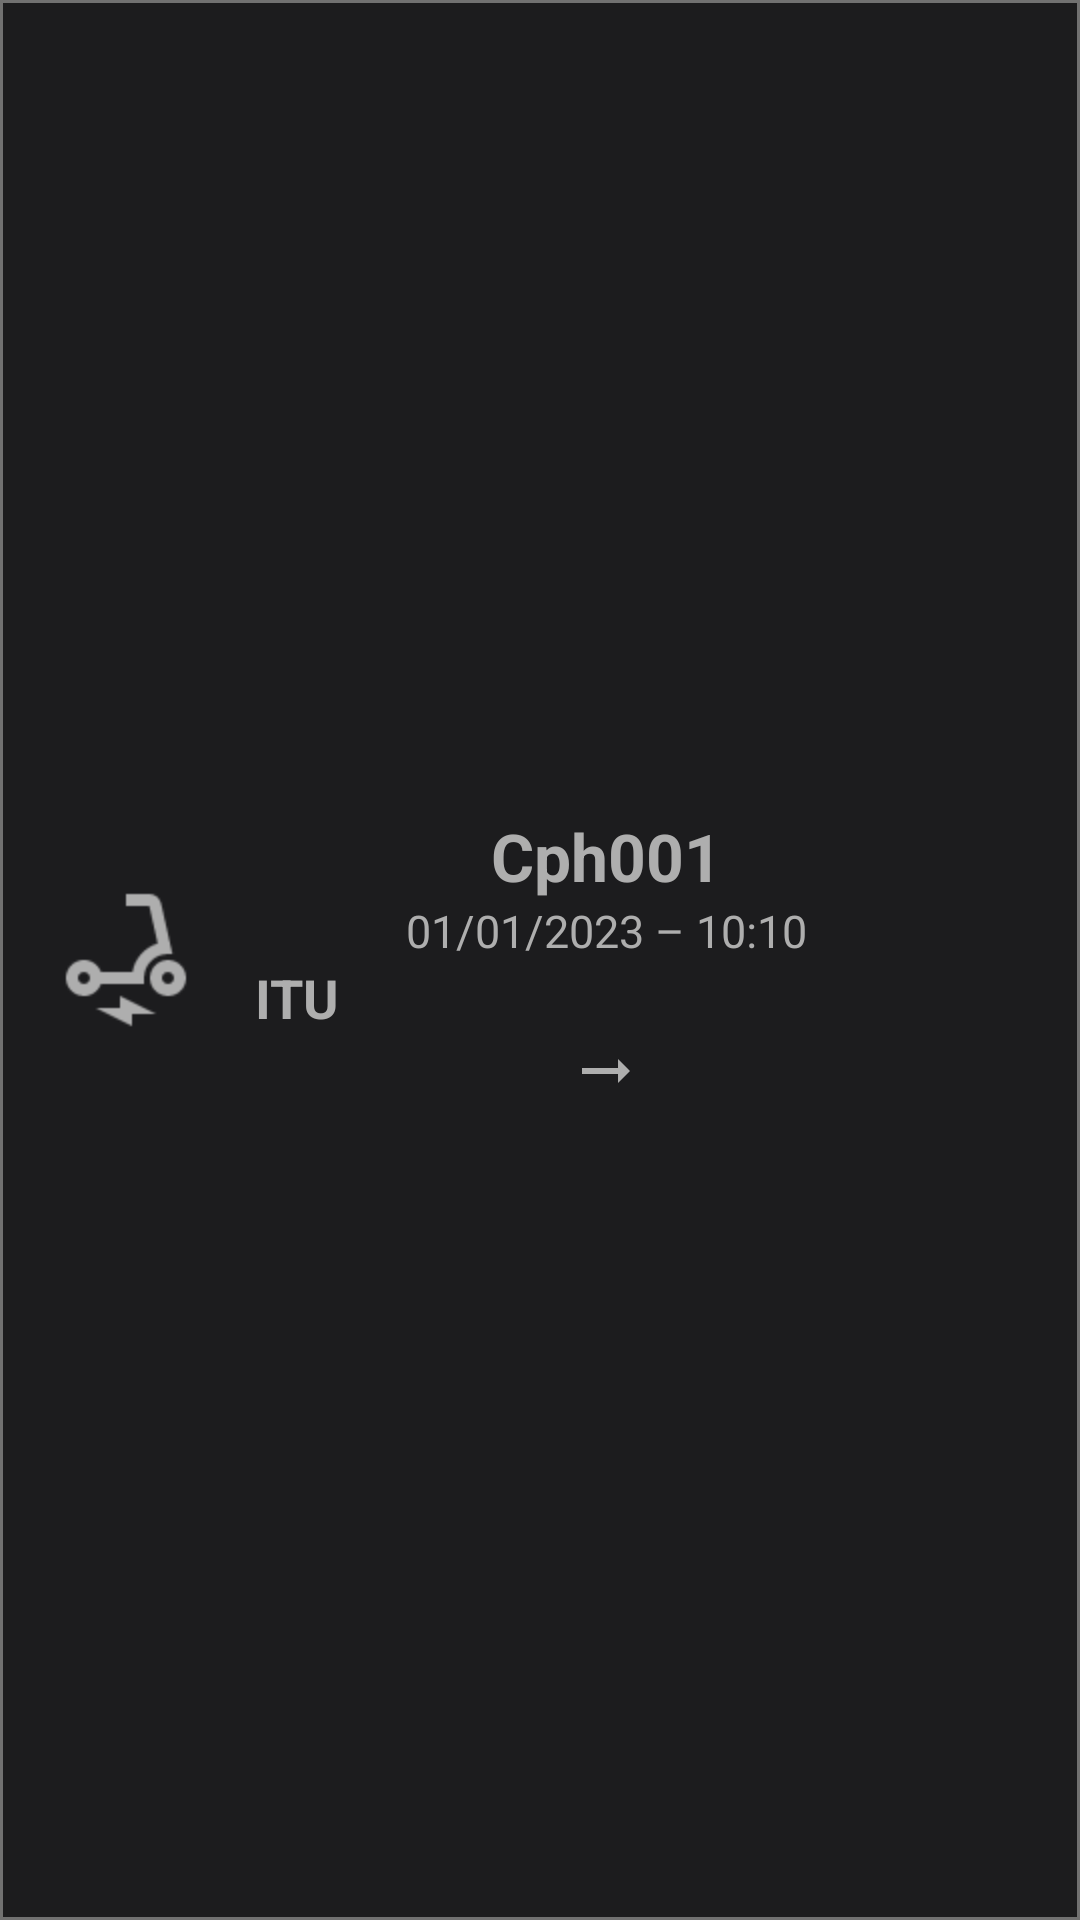

Icons on this 1080px×1920px Android screen, each with the point to tap as point (x, y):
arrow: point (606, 1071)
